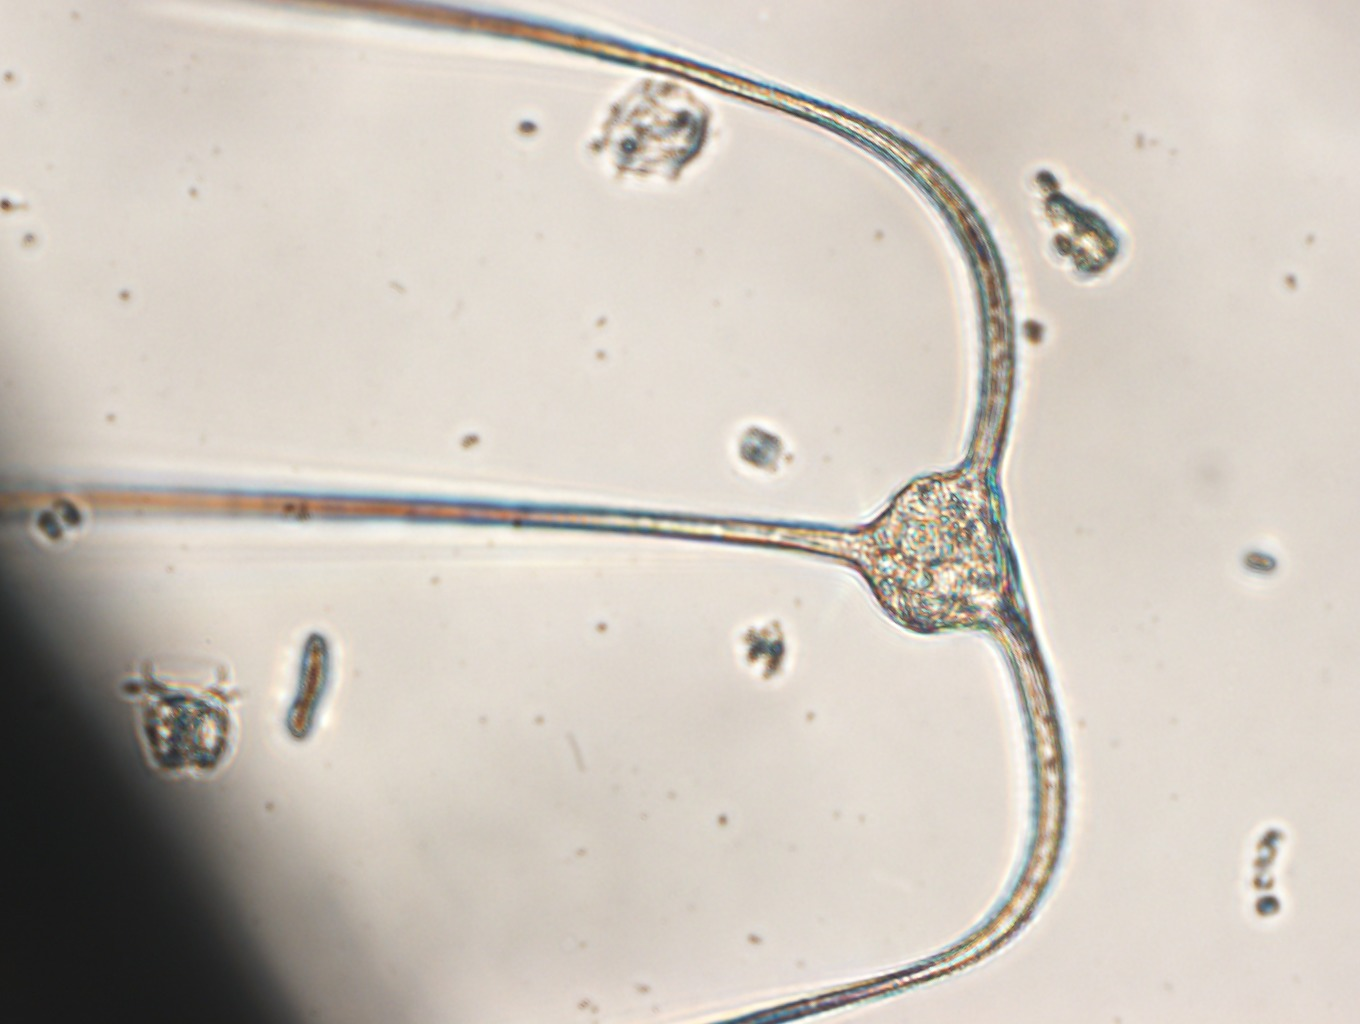ceratium trichoceros: (1, 3, 1070, 1024)
